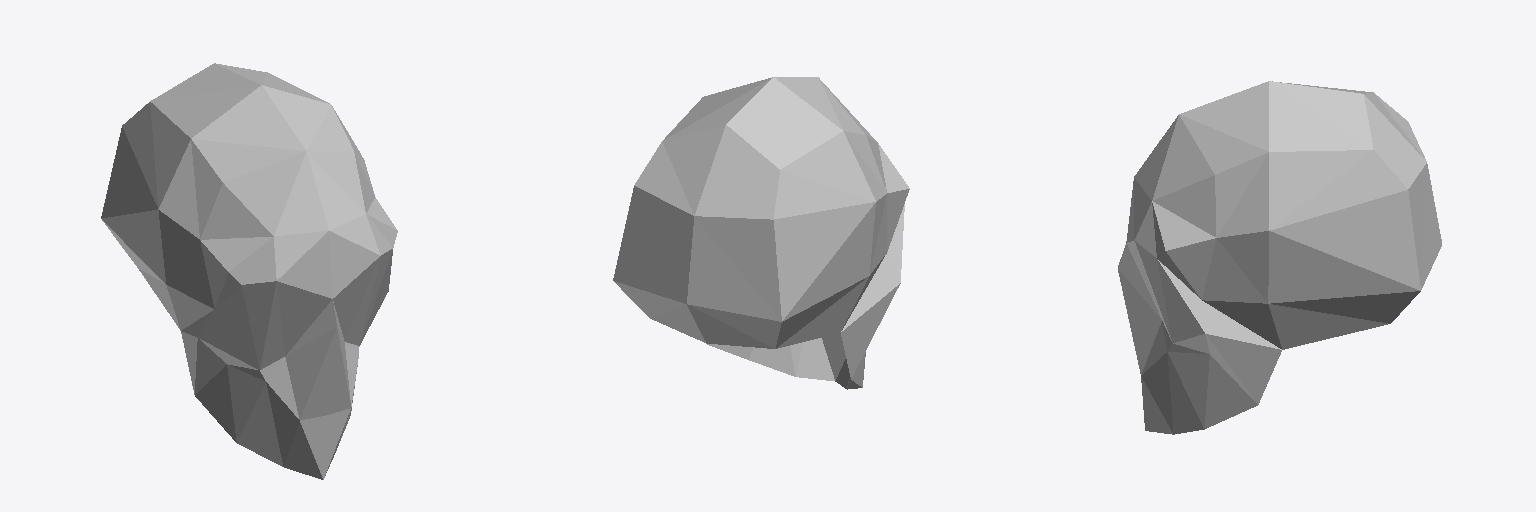
File: skull - quad.obj
3 views of the same model, side by side, from view 1: azimuth 30°, elevation 25°; view 2: azimuth 150°, elevation 25°; view 3: azimuth 270°, elevation 25° (orthographic).
Visible parts, largest first — view 1: Skull; view 2: Skull; view 3: Skull.
Boxes of the visible parts, x1,y1,x2,y2 form: Skull: [101, 63, 397, 479]; Skull: [613, 77, 909, 389]; Skull: [1118, 81, 1441, 434].
Size of the model in its own units: 0.6029 by 0.9797 by 0.8247.